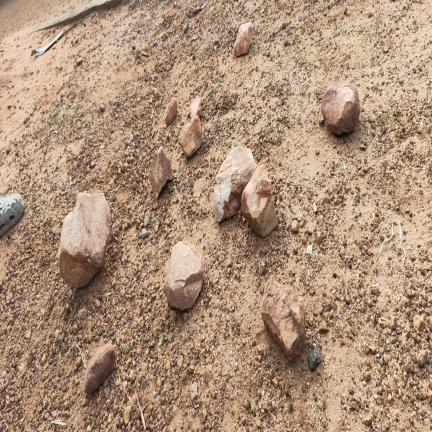Rocks: (59, 191, 110, 288), (262, 280, 305, 359), (214, 148, 256, 221), (165, 242, 204, 310), (242, 165, 277, 237), (322, 82, 360, 135), (84, 343, 115, 394), (150, 147, 172, 198), (0, 194, 24, 237), (180, 116, 203, 157), (234, 23, 252, 56), (165, 99, 177, 125), (308, 348, 321, 370), (191, 97, 200, 117), (414, 315, 425, 331), (417, 350, 427, 367), (190, 382, 198, 402), (124, 406, 132, 425), (363, 414, 373, 426), (77, 309, 87, 319), (389, 316, 396, 330), (319, 321, 327, 333), (291, 220, 298, 232), (141, 229, 148, 239), (306, 244, 313, 254), (365, 371, 371, 382), (76, 57, 83, 66), (124, 222, 131, 230), (100, 104, 105, 112)
